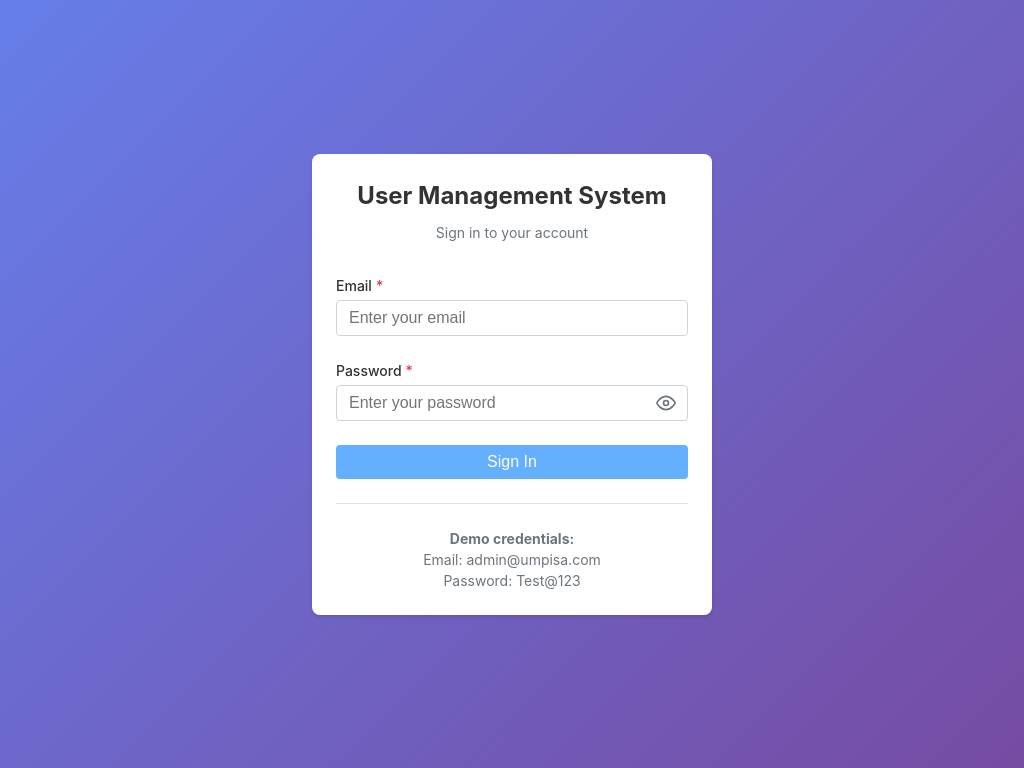
Test: Login Component › shows validation error for invalid email
In the field labelled "Email*": (512, 318) 336,300 -> 688,336, type "invalid-email"
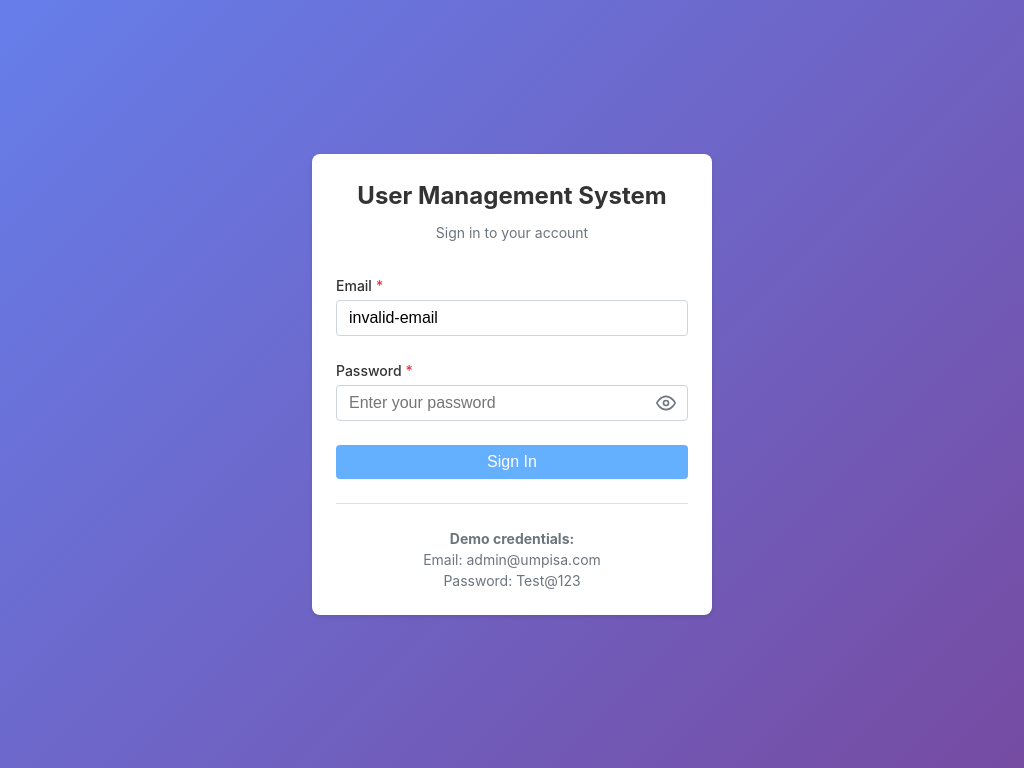
Leave the field labelled "Email*", box 336,300 -> 688,336
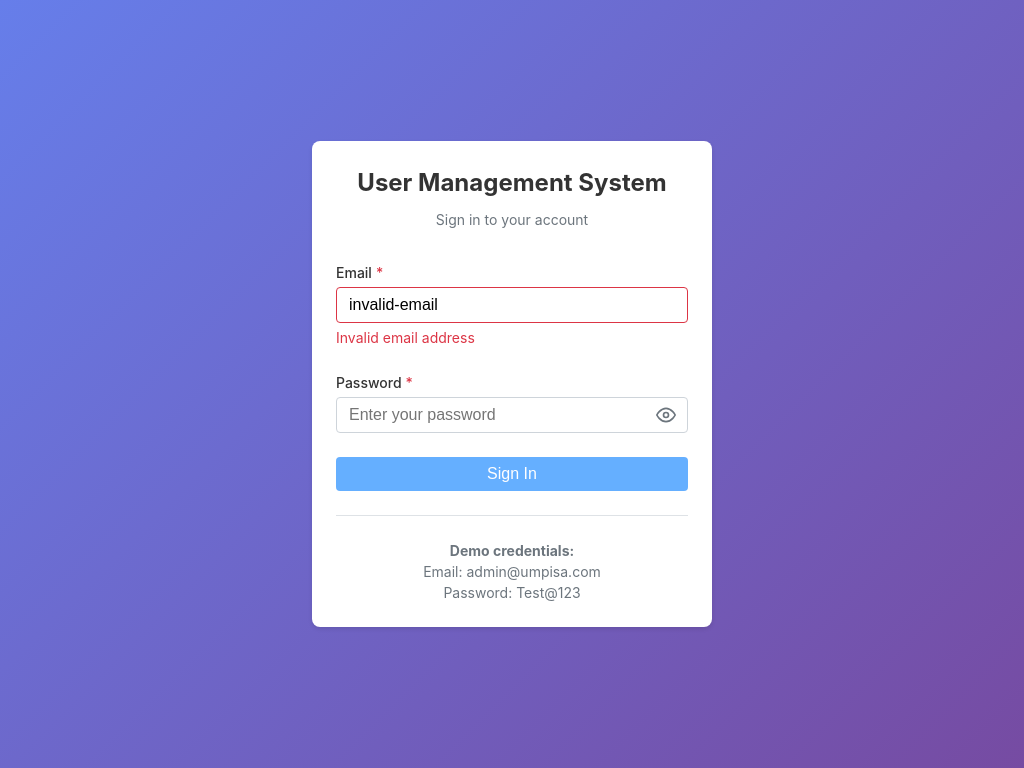
Expected: the text "Invalid email address" is shown, 336,329 -> 475,346
